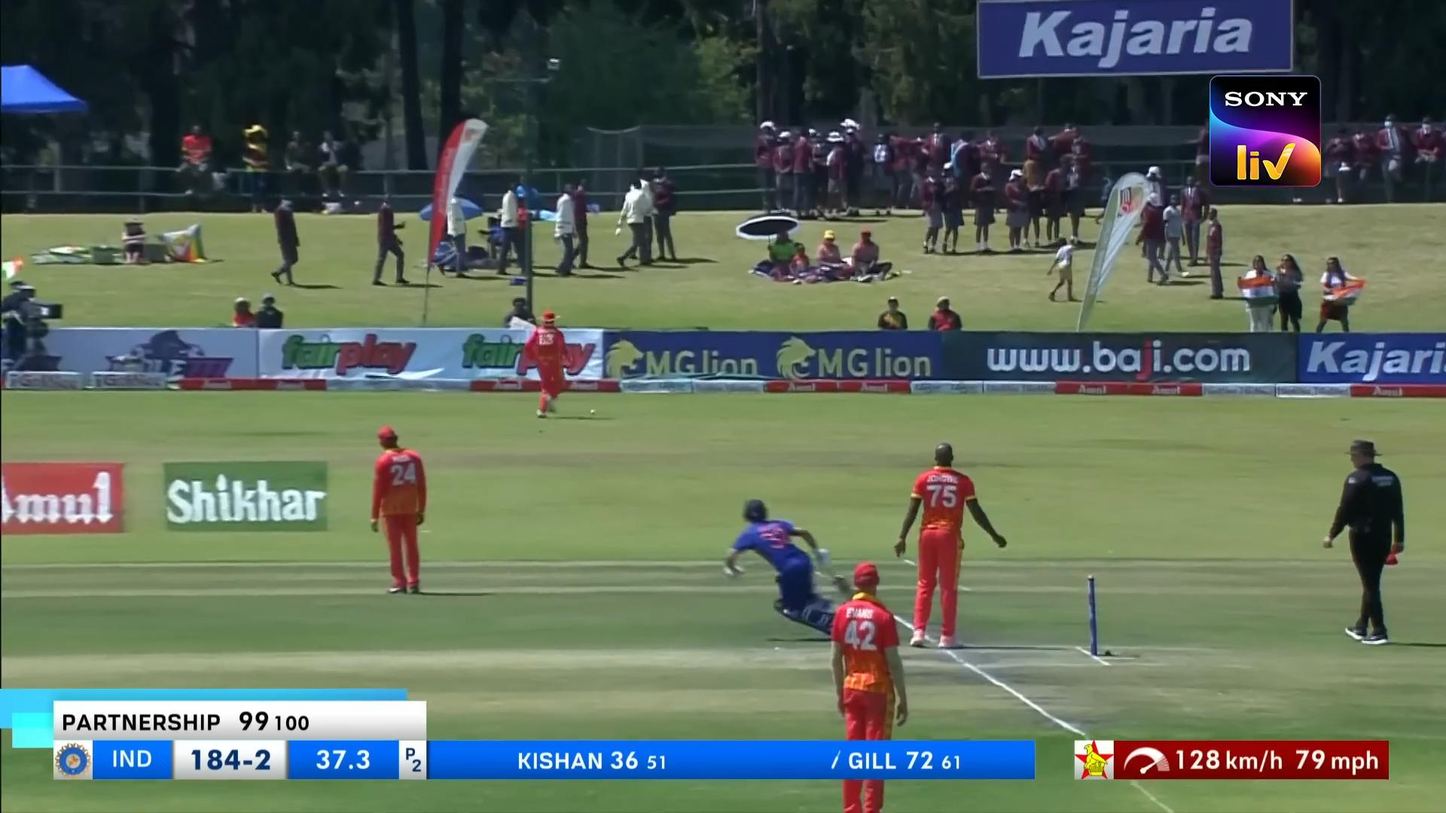batsman: (724, 499, 852, 640)
